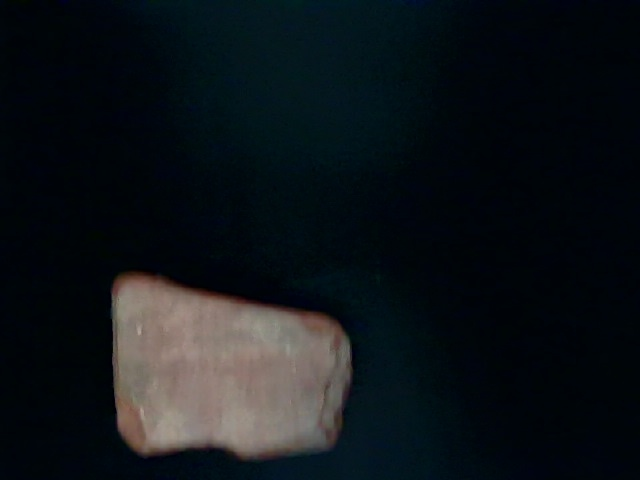KHSLJ: (130, 308, 449, 480)
